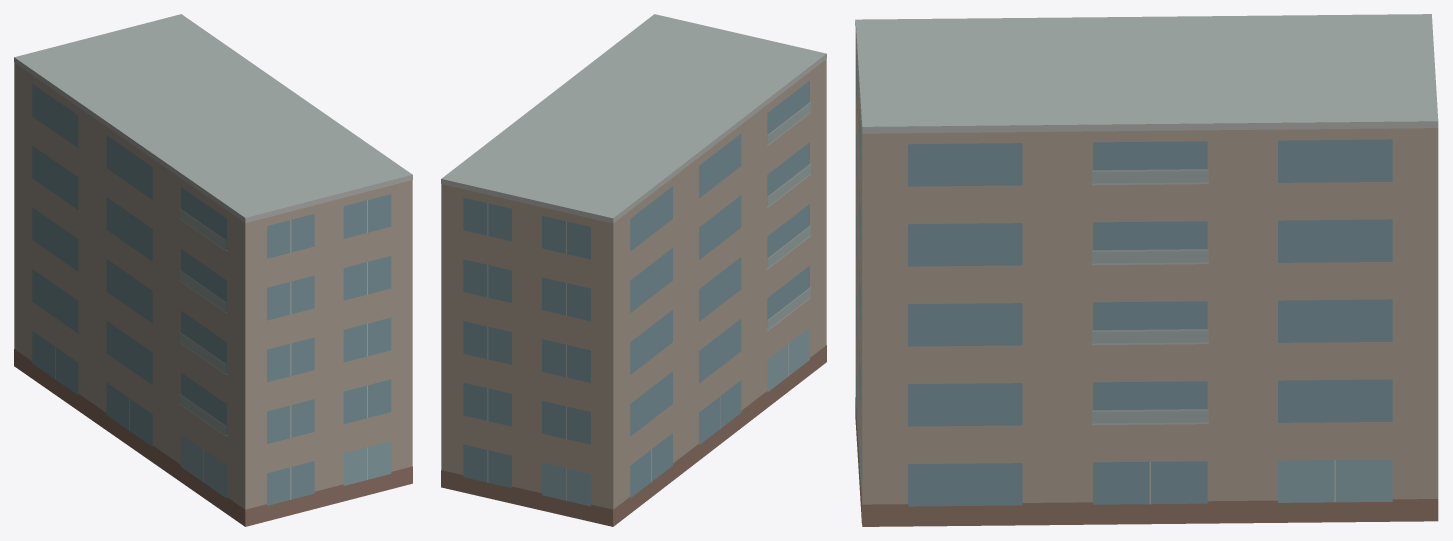
The model's file is survey-upis-32662695.glb.
The picture shows the model from 3 angles, left to right: view 1: azimuth 30°, elevation 25°; view 2: azimuth 150°, elevation 25°; view 3: azimuth 270°, elevation 25°; orthographic projection. The views are drawn at different scales.
Parts seen in each view (by area): view 1: survey-upis-32662695.tmp; view 2: survey-upis-32662695.tmp; view 3: survey-upis-32662695.tmp.
Part boxes in pixels (x1,y1,x2,y2): survey-upis-32662695.tmp: (14,14,412,526); survey-upis-32662695.tmp: (441,14,826,526); survey-upis-32662695.tmp: (855,14,1438,526).
Size of the model in its own units: 8.76 by 14.45 by 19.09.
